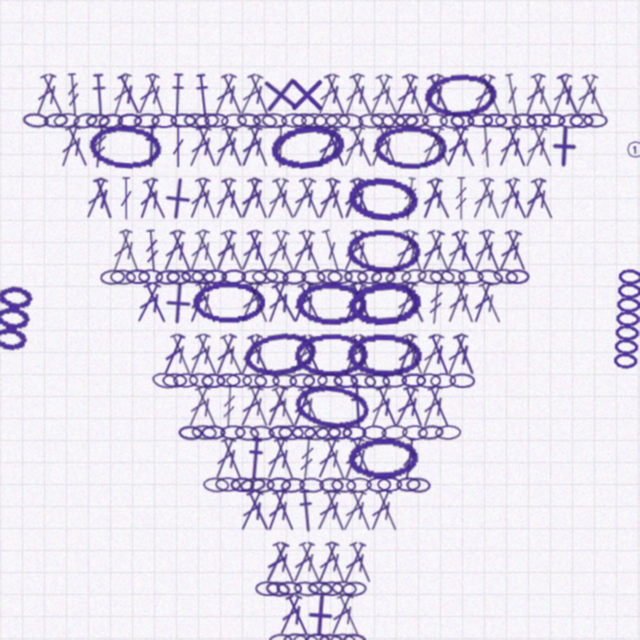chain: (241, 328, 320, 381), (292, 381, 371, 433), (268, 121, 346, 172), (87, 122, 164, 171), (346, 174, 421, 223), (346, 279, 422, 327), (423, 72, 499, 118), (346, 332, 422, 377), (346, 228, 422, 273), (347, 436, 420, 481), (373, 125, 447, 169), (294, 333, 369, 376), (295, 281, 368, 325), (192, 281, 265, 324), (476, 267, 504, 287), (151, 371, 179, 390), (349, 371, 377, 390), (400, 267, 428, 286), (263, 267, 290, 286), (492, 267, 519, 286), (72, 111, 99, 130), (369, 111, 396, 130), (293, 580, 320, 598), (239, 476, 266, 494), (385, 268, 412, 286), (97, 112, 124, 130), (337, 112, 364, 130), (265, 580, 291, 598), (280, 476, 306, 494), (234, 424, 260, 442), (249, 424, 275, 442), (370, 268, 396, 286), (252, 112, 278, 130), (381, 424, 408, 441), (417, 424, 444, 441), (316, 268, 343, 285), (22, 112, 49, 129), (53, 112, 80, 129), (133, 112, 160, 129), (183, 112, 210, 129), (261, 112, 288, 129), (307, 580, 333, 597), (331, 580, 357, 597), (191, 424, 217, 441), (188, 372, 214, 389), (302, 372, 328, 389), (180, 268, 206, 285), (440, 268, 466, 285), (43, 112, 69, 129), (194, 112, 220, 129), (236, 112, 262, 129), (404, 112, 430, 129), (511, 112, 537, 129), (417, 269, 444, 285), (341, 581, 367, 597), (203, 477, 229, 493), (346, 477, 372, 493), (315, 425, 341, 441), (317, 373, 343, 389), (364, 373, 390, 389), (110, 269, 136, 285), (241, 269, 267, 285), (343, 269, 369, 285), (429, 269, 455, 285), (85, 113, 111, 129), (221, 113, 247, 129), (358, 113, 384, 129), (439, 113, 465, 129), (495, 113, 521, 129), (558, 113, 584, 129), (250, 477, 275, 493), (299, 477, 324, 493), (319, 477, 344, 493), (331, 477, 356, 493), (406, 477, 431, 493), (178, 425, 203, 441), (304, 425, 329, 441), (242, 373, 267, 389), (272, 373, 297, 389), (100, 269, 125, 285), (155, 269, 180, 285), (166, 269, 191, 285), (282, 269, 307, 285), (301, 269, 326, 285), (276, 581, 302, 596), (215, 477, 241, 492), (220, 425, 246, 440), (278, 425, 304, 440), (402, 425, 428, 440), (435, 425, 461, 440), (226, 373, 252, 388), (254, 373, 280, 388), (289, 373, 315, 388), (430, 373, 456, 388), (449, 373, 475, 388), (252, 269, 278, 284), (327, 269, 353, 284), (458, 269, 484, 284), (151, 113, 177, 128), (170, 113, 196, 128), (281, 113, 307, 128), (301, 113, 327, 128), (422, 113, 448, 128), (467, 113, 493, 128), (255, 581, 280, 596), (319, 581, 344, 596), (230, 477, 255, 492), (266, 477, 291, 492), (366, 477, 391, 492), (377, 477, 402, 492), (396, 477, 421, 492), (201, 425, 226, 440), (268, 425, 293, 440), (291, 425, 316, 440), (327, 425, 352, 440), (342, 425, 367, 440), (362, 425, 387, 440), (162, 373, 187, 388), (173, 373, 198, 388), (201, 373, 226, 388), (216, 373, 241, 388), (333, 373, 358, 388), (382, 373, 407, 388), (401, 373, 426, 388), (416, 373, 441, 388), (125, 269, 150, 284), (138, 269, 163, 284), (191, 269, 216, 284), (202, 269, 227, 284), (221, 269, 246, 284), (357, 269, 382, 284), (505, 269, 530, 284), (117, 113, 142, 128), (204, 113, 229, 128), (291, 113, 316, 128), (313, 113, 338, 128), (325, 113, 350, 128), (381, 113, 406, 128), (394, 113, 419, 128), (450, 113, 475, 128), (482, 113, 507, 128), (526, 113, 551, 128), (541, 113, 566, 128), (569, 113, 594, 128), (583, 113, 608, 128), (342, 632, 368, 640), (293, 633, 319, 640), (318, 633, 344, 640), (330, 633, 356, 640), (268, 633, 293, 640), (283, 633, 308, 640), (305, 633, 330, 640)
double: (268, 281, 302, 325), (287, 176, 319, 221), (132, 281, 164, 325), (261, 540, 292, 585), (269, 540, 300, 585), (312, 488, 343, 533), (235, 384, 266, 429), (346, 280, 377, 325), (269, 228, 300, 273), (269, 176, 300, 221), (62, 124, 93, 169), (37, 72, 68, 117), (114, 72, 145, 117), (346, 72, 377, 117), (424, 72, 455, 117), (243, 489, 274, 533), (338, 489, 369, 533), (269, 385, 300, 429), (295, 385, 326, 429), (390, 385, 421, 429), (217, 333, 248, 377), (287, 333, 318, 377), (295, 281, 326, 325), (390, 229, 421, 273), (449, 229, 480, 273), (140, 177, 171, 221), (424, 177, 455, 221), (312, 125, 343, 169), (235, 73, 266, 117), (326, 592, 356, 637), (288, 540, 318, 585), (296, 540, 326, 585), (365, 488, 395, 533), (347, 436, 377, 481), (192, 332, 222, 377), (450, 332, 480, 377), (347, 228, 377, 273), (81, 176, 111, 221), (218, 176, 248, 221), (244, 72, 274, 117), (399, 72, 429, 117), (476, 72, 506, 117), (554, 72, 584, 117), (275, 593, 305, 637), (283, 593, 313, 637), (334, 593, 364, 637), (339, 541, 369, 585), (236, 489, 266, 533), (192, 385, 222, 429), (244, 333, 274, 377), (296, 333, 326, 377), (339, 333, 369, 377), (347, 333, 377, 377), (417, 333, 447, 377), (141, 281, 171, 325), (339, 281, 369, 325), (399, 281, 429, 325), (476, 281, 506, 325), (192, 229, 222, 273), (218, 229, 248, 273), (262, 229, 292, 273), (288, 229, 318, 273), (339, 229, 369, 273), (417, 229, 447, 273), (494, 229, 524, 273), (262, 177, 292, 221), (313, 177, 343, 221), (502, 177, 532, 221), (528, 177, 558, 221), (184, 125, 214, 169), (210, 125, 240, 169), (347, 125, 377, 169), (417, 125, 447, 169), (425, 125, 455, 169), (450, 125, 480, 169), (520, 125, 550, 169), (365, 73, 395, 117), (373, 73, 403, 117), (391, 73, 421, 117), (468, 73, 498, 117), (571, 73, 601, 117), (579, 73, 609, 117), (313, 540, 342, 585), (347, 540, 376, 585), (270, 488, 299, 533), (321, 488, 350, 533), (347, 488, 376, 533), (373, 488, 402, 533), (210, 436, 239, 481), (218, 436, 247, 481), (262, 436, 291, 481), (313, 436, 342, 481), (321, 436, 350, 481), (339, 436, 368, 481), (184, 384, 213, 429), (262, 384, 291, 429), (288, 384, 317, 429), (373, 384, 402, 429), (425, 384, 454, 429), (159, 332, 188, 377), (167, 332, 196, 377), (236, 332, 265, 377), (442, 332, 471, 377), (236, 280, 265, 325), (244, 280, 273, 325), (391, 280, 420, 325), (159, 228, 188, 273), (167, 228, 196, 273), (236, 228, 265, 273), (244, 228, 273, 273), (296, 228, 325, 273), (425, 228, 454, 273), (442, 228, 471, 273), (476, 228, 505, 273), (502, 228, 531, 273), (192, 176, 221, 221), (210, 176, 239, 221), (236, 176, 265, 221), (244, 176, 273, 221), (296, 176, 325, 221), (339, 176, 368, 221), (347, 176, 376, 221), (417, 176, 446, 221), (468, 176, 497, 221), (520, 176, 549, 221), (236, 124, 265, 169), (321, 124, 350, 169), (339, 124, 368, 169), (442, 124, 471, 169), (494, 124, 523, 169), (528, 124, 557, 169), (133, 72, 162, 117), (210, 72, 239, 117), (218, 72, 247, 117), (313, 72, 342, 117), (321, 72, 350, 117), (520, 72, 549, 117), (528, 72, 557, 117), (322, 540, 350, 585), (271, 436, 299, 481), (245, 384, 273, 429), (366, 384, 394, 429), (400, 384, 428, 429), (185, 332, 213, 377), (211, 332, 239, 377), (392, 332, 420, 377), (400, 332, 428, 377), (426, 332, 454, 377), (185, 280, 213, 325), (193, 280, 221, 325), (263, 280, 291, 325), (289, 280, 317, 325), (443, 280, 471, 325), (451, 280, 479, 325), (116, 228, 144, 273), (211, 228, 239, 273), (469, 228, 497, 273), (90, 176, 118, 221), (185, 176, 213, 221), (477, 176, 505, 221), (495, 176, 523, 221), (193, 124, 221, 169), (219, 124, 247, 169), (245, 124, 273, 169), (366, 124, 394, 169), (374, 124, 402, 169), (503, 124, 531, 169), (31, 72, 59, 117), (142, 72, 170, 117), (418, 72, 446, 117), (547, 72, 575, 117), (263, 488, 290, 533), (418, 384, 445, 429), (469, 280, 496, 325), (108, 228, 135, 273), (185, 228, 212, 273), (400, 228, 427, 273), (56, 124, 83, 169), (108, 72, 135, 117), (340, 72, 367, 117), (319, 228, 345, 273), (135, 176, 161, 221), (323, 176, 349, 221), (502, 73, 523, 117), (400, 437, 419, 481), (478, 125, 495, 168), (273, 125, 288, 168), (119, 177, 133, 220), (171, 125, 185, 168)
enseble_chain: (611, 268, 640, 371), (0, 283, 38, 357)
half_double: (296, 489, 317, 533), (245, 437, 265, 481), (193, 73, 213, 117), (90, 73, 109, 117), (348, 385, 367, 428), (143, 125, 160, 168), (169, 73, 186, 116)
noise: (625, 139, 640, 159)
single: (154, 175, 201, 222), (257, 71, 304, 118), (297, 592, 343, 638), (155, 280, 201, 326), (542, 124, 587, 169), (285, 73, 328, 116)
treble: (90, 125, 109, 169), (298, 437, 316, 481), (427, 281, 445, 325), (143, 229, 161, 273), (401, 177, 419, 221), (65, 73, 82, 116), (221, 385, 237, 428), (454, 177, 468, 220)
